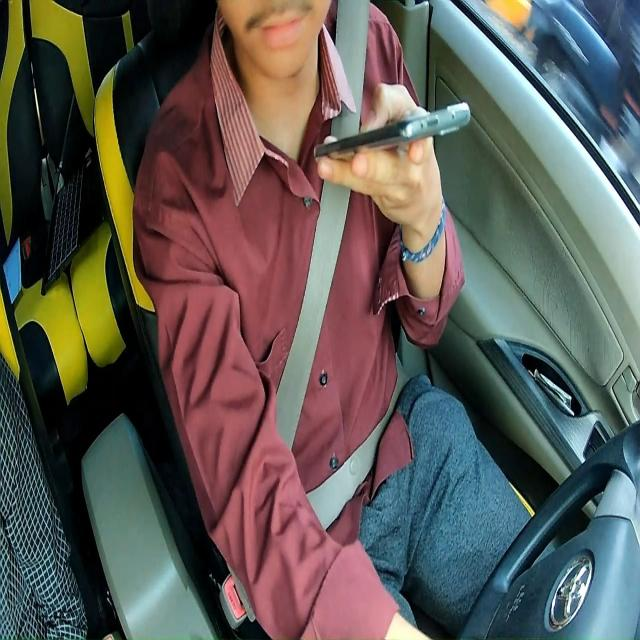phone: (312, 102, 471, 162)
